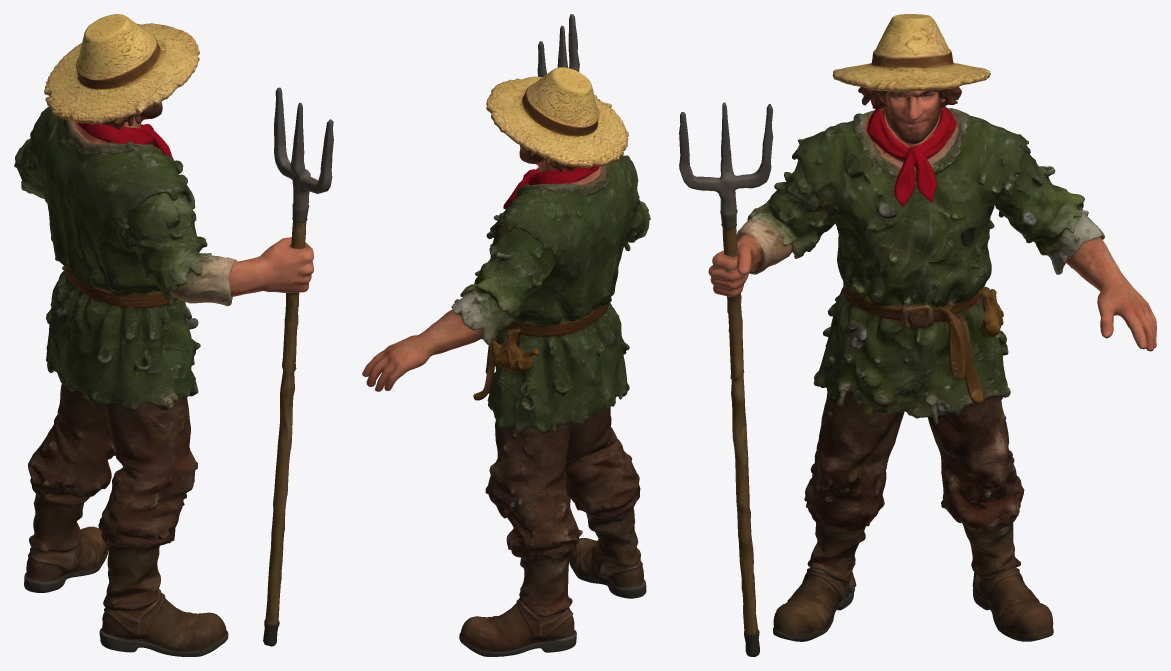
The picture shows the model from 3 angles, left to right: view 1: azimuth 30°, elevation 25°; view 2: azimuth 150°, elevation 25°; view 3: azimuth 270°, elevation 25°; orthographic projection. The views are drawn at different scales.
Visible parts, largest first — view 1: tripo_node_167d5366-258e-48b8-b9aa-d37a805abc77; view 2: tripo_node_167d5366-258e-48b8-b9aa-d37a805abc77; view 3: tripo_node_167d5366-258e-48b8-b9aa-d37a805abc77.
Part boxes in pixels (bbox=[...]): tripo_node_167d5366-258e-48b8-b9aa-d37a805abc77: bbox=[14, 14, 333, 656]; tripo_node_167d5366-258e-48b8-b9aa-d37a805abc77: bbox=[362, 14, 650, 656]; tripo_node_167d5366-258e-48b8-b9aa-d37a805abc77: bbox=[679, 14, 1156, 656].
Bounding box in the file's own units: 0.3072 × 1 × 0.7107.
Materials: 1 (1 with a texture image).
